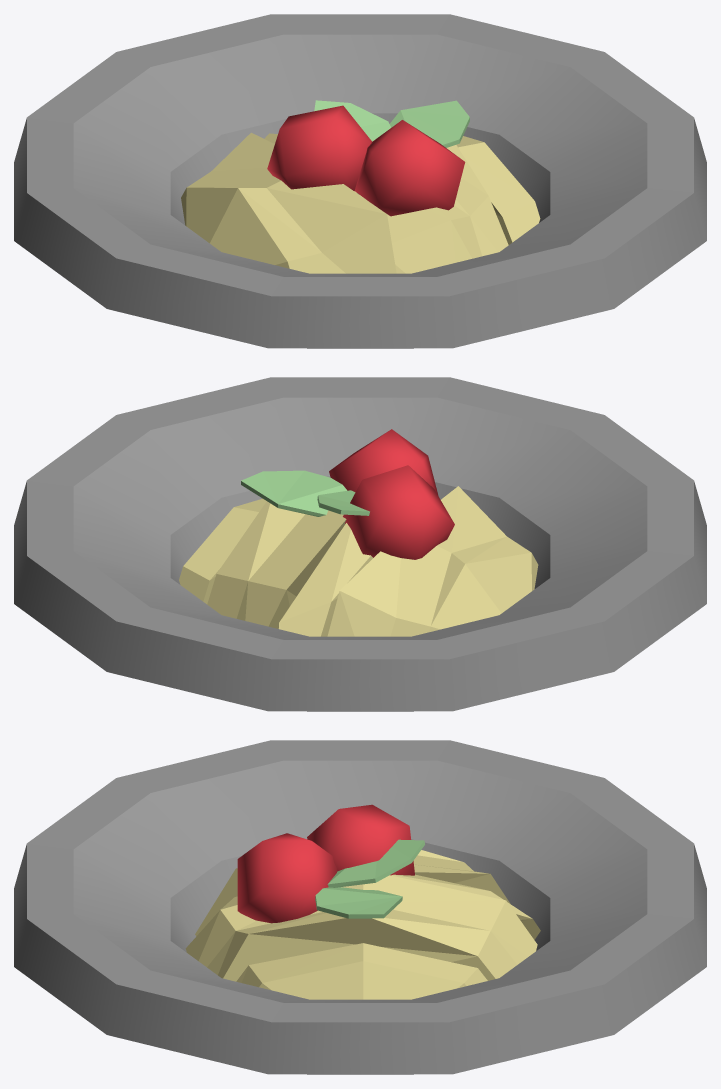
File: Teller_Pasta.FBX
The picture shows the model from 3 angles, top to bottom: view 1: azimuth 30°, elevation 25°; view 2: azimuth 150°, elevation 25°; view 3: azimuth 270°, elevation 25°; orthographic projection.
Visible parts, largest first — view 1: Nudeln; view 2: Nudeln; view 3: Nudeln.
Boxes of the visible parts, left/top/right/bottom form: Nudeln: left=14, top=14, right=706, bottom=348; Nudeln: left=14, top=377, right=706, bottom=711; Nudeln: left=14, top=740, right=706, bottom=1074.
Size of the model in its own units: 15.13 by 3.98 by 15.13.
